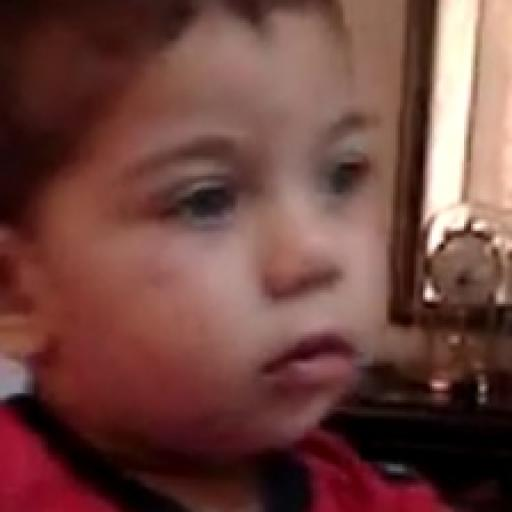Autism: (8, 10, 413, 478)
